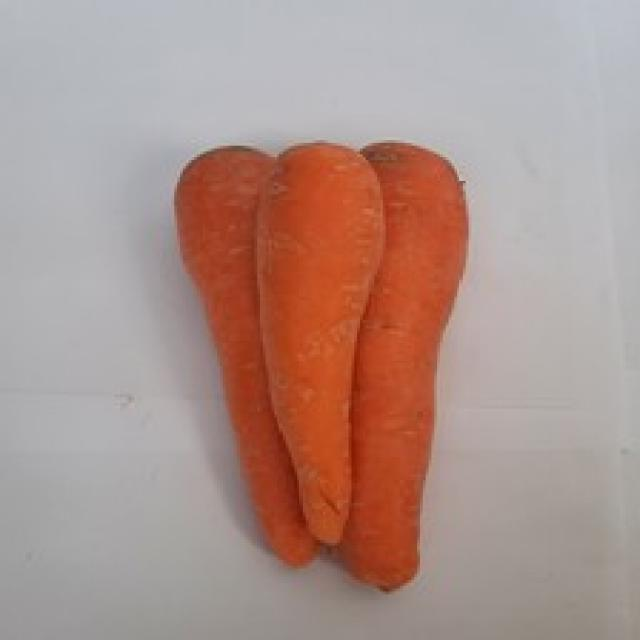carrot: (328, 140, 471, 591), (173, 147, 321, 564), (253, 142, 382, 549)
